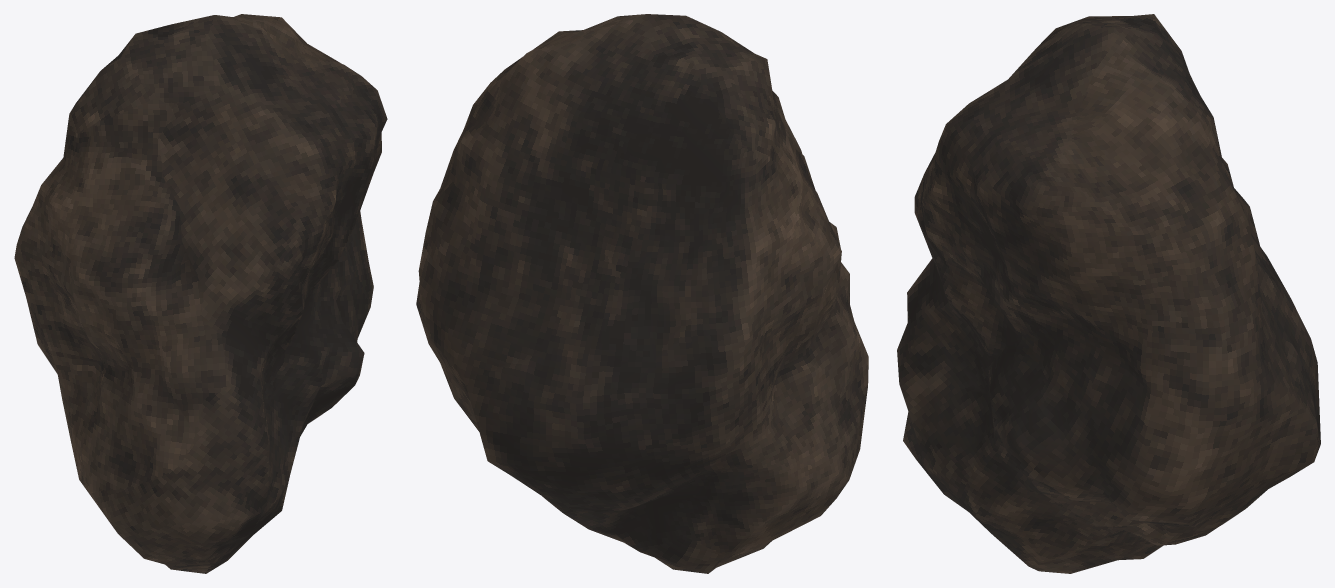
The model's file is SM_RP2_Rock_2m_3.002.glb.
3 renders of one model, left to right at view 1: azimuth 30°, elevation 25°; view 2: azimuth 150°, elevation 25°; view 3: azimuth 270°, elevation 25°, orthographic. The views are drawn at different scales.
Parts seen in each view (by area): view 1: SM_RP2_Rock_2m_3.002; view 2: SM_RP2_Rock_2m_3.002; view 3: SM_RP2_Rock_2m_3.002.
Boxes of the visible parts, box(x1,y1,x2,y2) form: SM_RP2_Rock_2m_3.002: box(14, 14, 387, 573); SM_RP2_Rock_2m_3.002: box(416, 14, 868, 573); SM_RP2_Rock_2m_3.002: box(897, 14, 1320, 573).
Size of the model in its own units: 2.3 by 3.47 by 2.36.
1 material, 1 textured.
